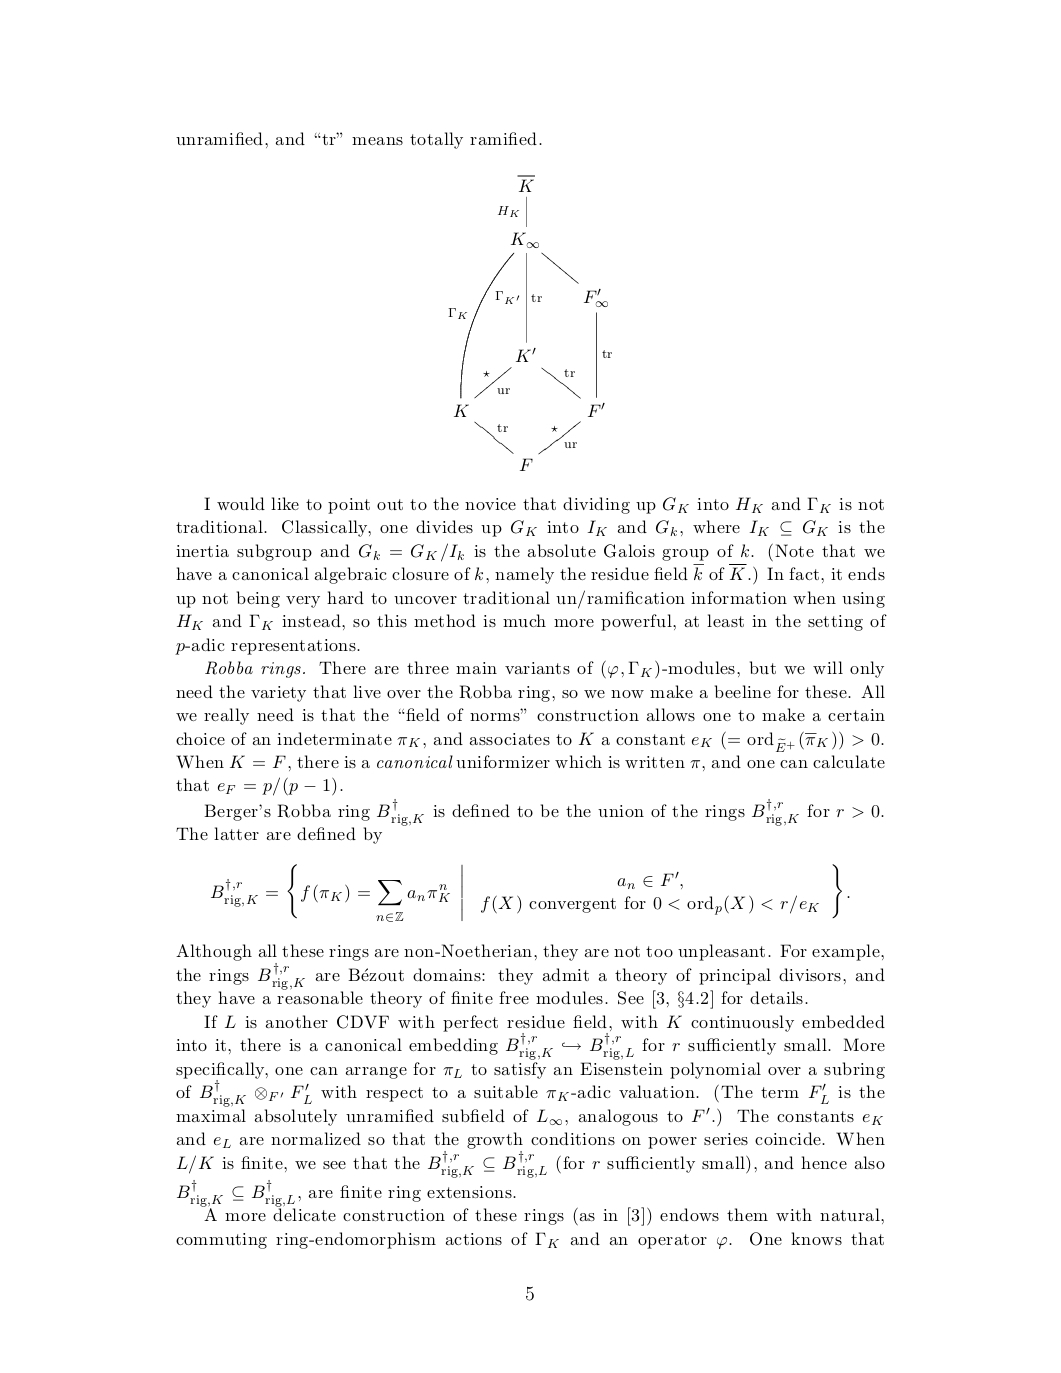figure: (448, 175, 611, 470)
formula: (210, 863, 849, 922)
